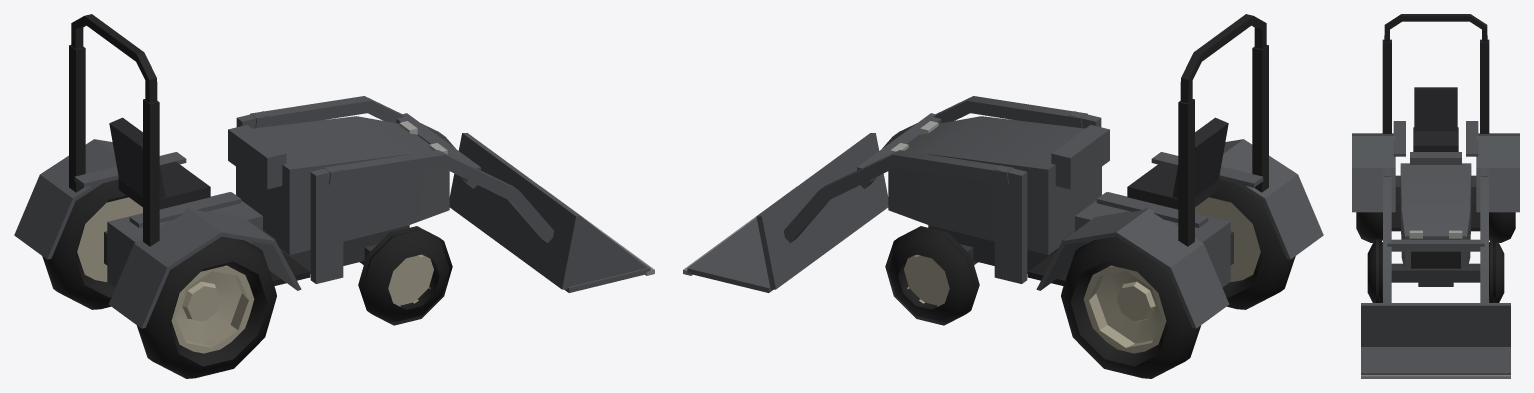
File: SM_Prop_farm_tractor_compact_2_LOD2.glb
3 renders of one model, left to right at view 1: azimuth 30°, elevation 25°; view 2: azimuth 150°, elevation 25°; view 3: azimuth 270°, elevation 25°, orthographic. The views are drawn at different scales.
Parts seen in each view (by area): view 1: SM_Prop_farm_tractor_compact_2_LOD2; view 2: SM_Prop_farm_tractor_compact_2_LOD2; view 3: SM_Prop_farm_tractor_compact_2_LOD2.
Boxes of the visible parts, x1,y1,x2,y2 form: SM_Prop_farm_tractor_compact_2_LOD2: [14, 14, 654, 378]; SM_Prop_farm_tractor_compact_2_LOD2: [683, 14, 1323, 378]; SM_Prop_farm_tractor_compact_2_LOD2: [1352, 14, 1519, 378].
Bounding box in the file's own units: 3.82 × 2.22 × 1.62.
